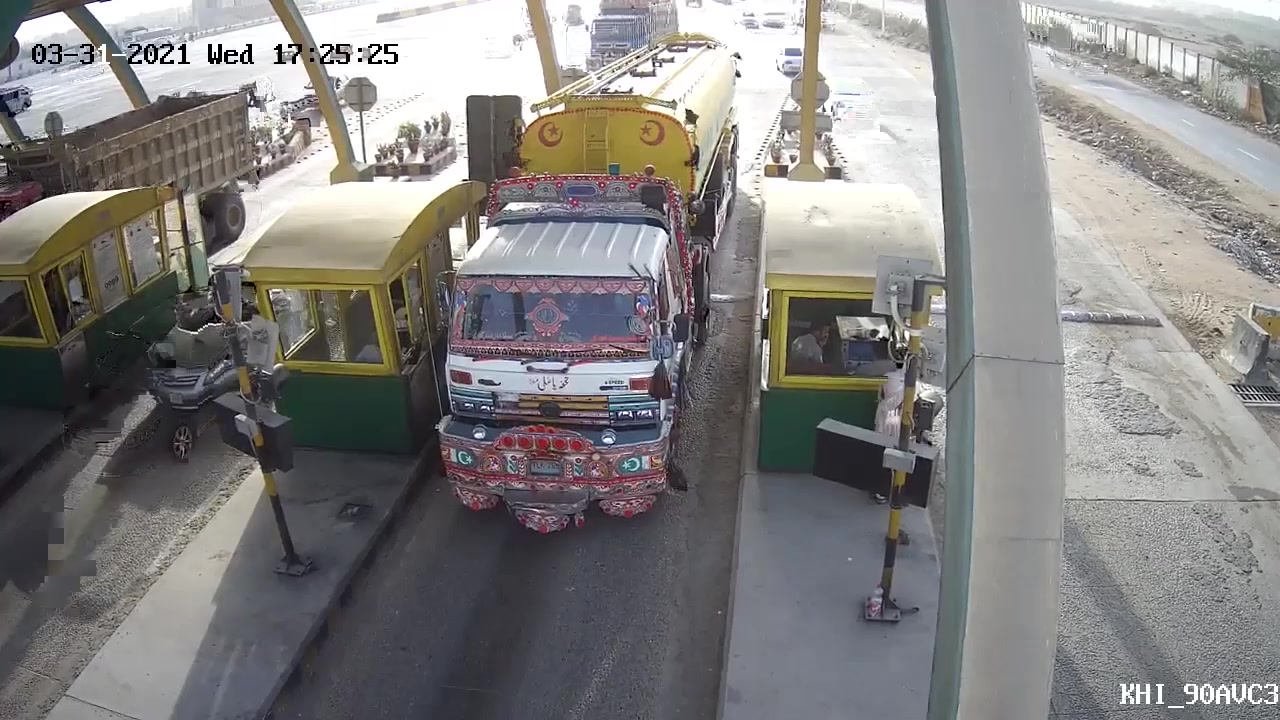F6: (440, 29, 744, 562)
